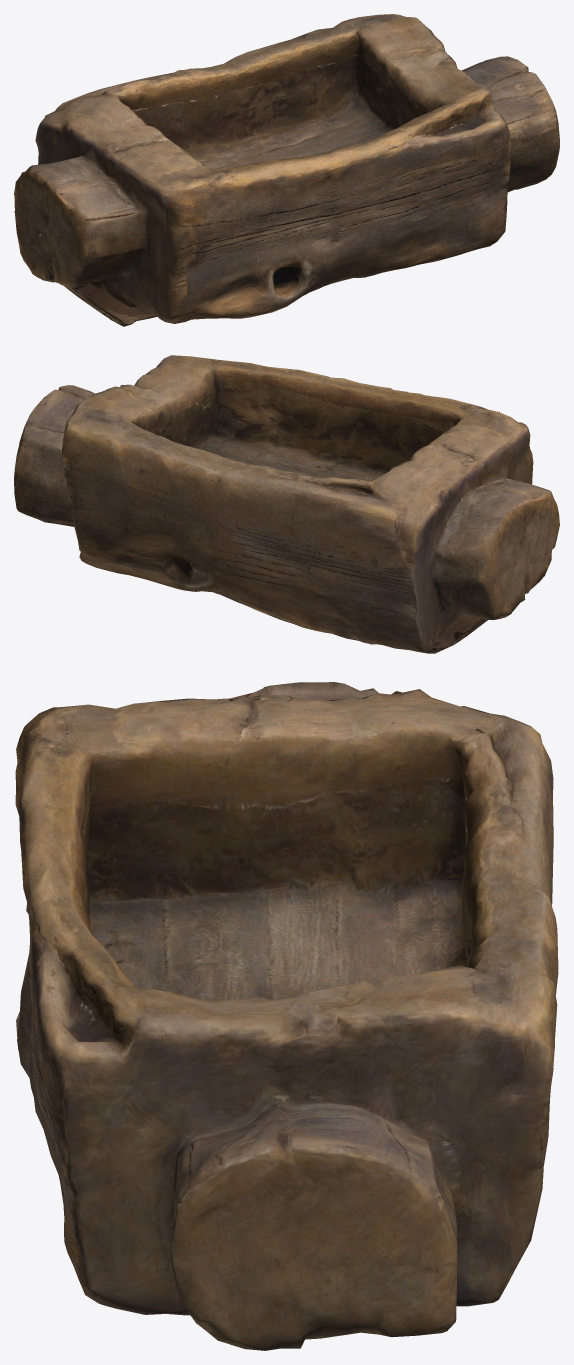
The model's file is bank.glb.
The picture shows the model from 3 angles, top to bottom: view 1: azimuth 30°, elevation 25°; view 2: azimuth 150°, elevation 25°; view 3: azimuth 270°, elevation 25°; orthographic projection. The views are drawn at different scales.
Bounding box in the file's own units: 2 × 0.6849 × 0.9894.
1 material, 1 textured.
